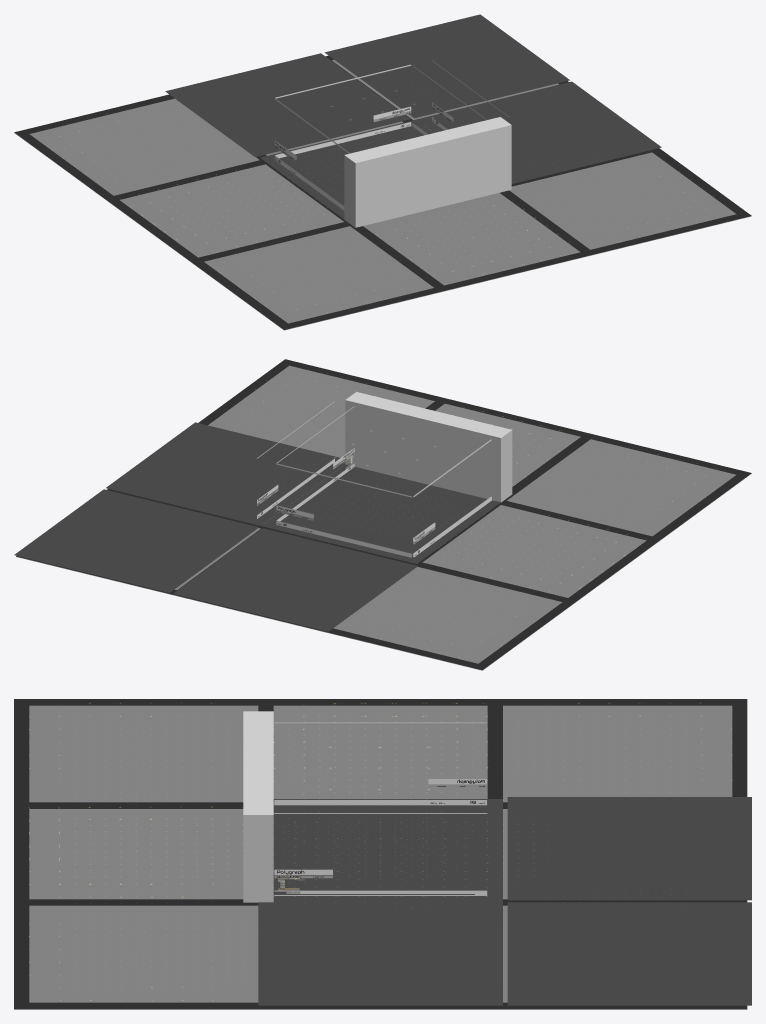
Rendered from aetheriaBuilderMenu2.glb.
3 renders of one model, top to bottom at view 1: azimuth 30°, elevation 25°; view 2: azimuth 150°, elevation 25°; view 3: azimuth 270°, elevation 25°, orthographic. The views are drawn at different scales.
Parts seen in each view (by area): view 1: 32x16Floor.007, 32x16Floor.005, baseFloor.002, baseFloor.003, 32x16Floor.011, Cube, baseFloor.001, 32x16Floor.002, 32x16Floor.001, baseFloor, Cube.001, roadEast.006 (+16 smaller); view 2: 32x16Floor.007, baseFloor.003, baseFloor.002, 32x16Floor.005, baseFloor.001, baseFloor, Cube.001, 32x16Floor.011, 32x16Floor.001, 32x16Floor.004, 32x16Floor.002, 32x16Floor.010 (+16 smaller); view 3: 32x16Floor.005, 32x16Floor.007, baseFloor.001, baseFloor.002, baseFloor.003, 32x16Floor.011, baseFloor, 32x16Floor.001, 32x16Floor.010, 32x16Floor.004, Cube, Cube.001 (+22 smaller).
Boxes of the visible parts, left/top/right/bottom form: 32x16Floor.007: left=14, top=98, right=349, bottom=261; 32x16Floor.005: left=194, top=193, right=581, bottom=330; baseFloor.002: left=324, top=14, right=569, bottom=118; baseFloor.003: left=165, top=53, right=410, bottom=156; 32x16Floor.011: left=509, top=153, right=751, bottom=254; Cube: left=350, top=121, right=511, bottom=227; baseFloor.001: left=416, top=81, right=661, bottom=183; 32x16Floor.002: left=291, top=183, right=595, bottom=292; 32x16Floor.001: left=104, top=170, right=339, bottom=264; baseFloor: left=260, top=119, right=433, bottom=218; Cube.001: left=344, top=117, right=505, bottom=223; roadEast.006: left=15, top=131, right=199, bottom=263; 32x16Floor.007: left=327, top=525, right=661, bottom=670; baseFloor.003: left=173, top=528, right=417, bottom=631; baseFloor.002: left=14, top=489, right=258, bottom=592; 32x16Floor.005: left=436, top=405, right=751, bottom=538; baseFloor.001: left=106, top=422, right=345, bottom=525; baseFloor: left=261, top=464, right=500, bottom=563; Cube.001: left=345, top=396, right=506, bottom=502; 32x16Floor.011: left=208, top=365, right=434, bottom=528; 32x16Floor.001: left=417, top=528, right=628, bottom=604; 32x16Floor.004: left=422, top=505, right=640, bottom=598; 32x16Floor.002: left=435, top=403, right=590, bottom=488; 32x16Floor.010: left=448, top=409, right=589, bottom=500; 32x16Floor.005: left=29, top=705, right=258, bottom=906; 32x16Floor.007: left=274, top=705, right=732, bottom=802; baseFloor.001: left=258, top=902, right=502, bottom=1005; baseFloor.002: left=507, top=902, right=751, bottom=1005; baseFloor.003: left=507, top=797, right=751, bottom=900; 32x16Floor.011: left=14, top=906, right=501, bottom=1009; baseFloor: left=273, top=799, right=502, bottom=902; 32x16Floor.001: left=273, top=705, right=487, bottom=798; 32x16Floor.010: left=29, top=809, right=255, bottom=906; 32x16Floor.004: left=273, top=705, right=487, bottom=798; Cube: left=243, top=711, right=258, bottom=902; Cube.001: left=258, top=711, right=273, bottom=902.
Size of what is drawn, in the model's own units: 48.01 by 6.62 by 48.3.
Materials: 19 (15 with a texture image).
